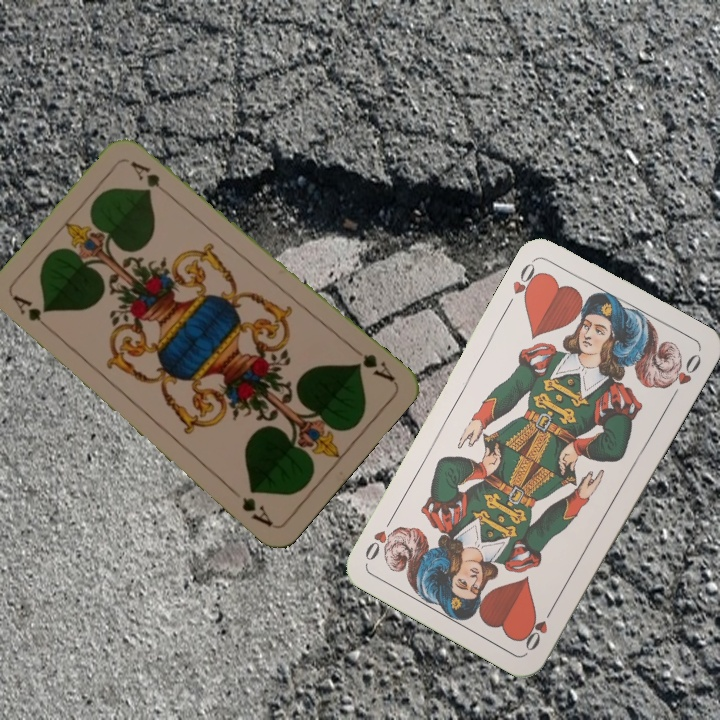GA: (9, 291, 58, 337), (347, 343, 398, 385)
HO: (519, 600, 558, 654), (508, 255, 545, 307)
